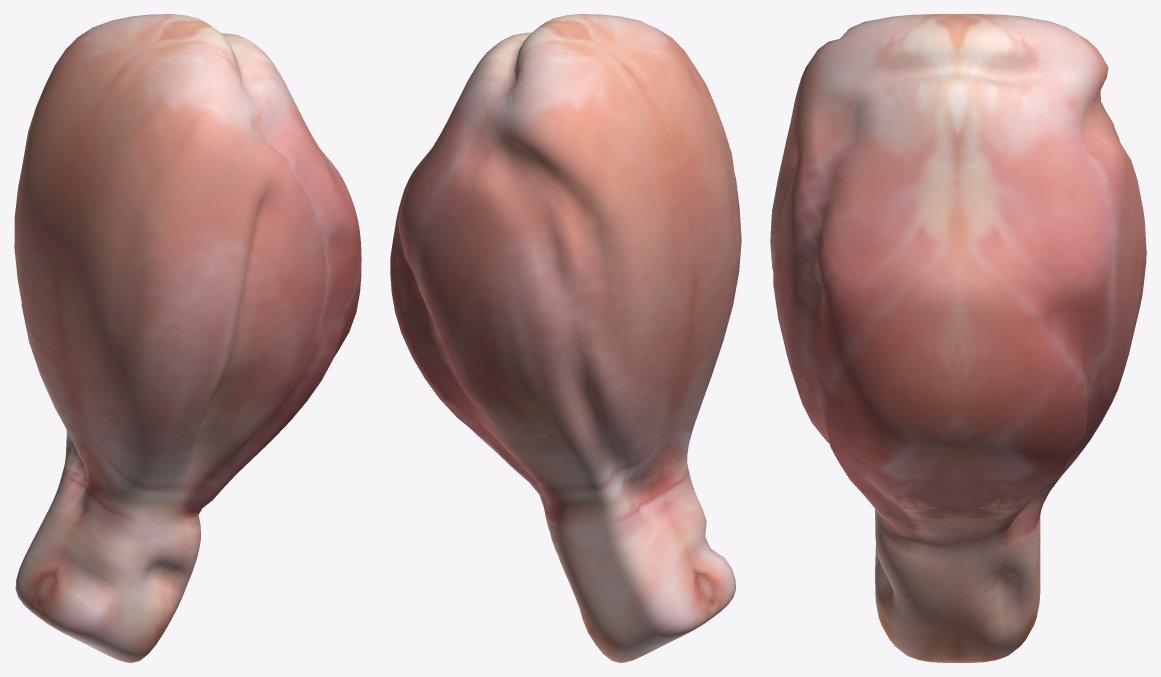
The model's file is Drumstick.glb.
3 views of the same model, side by side, from view 1: azimuth 30°, elevation 25°; view 2: azimuth 150°, elevation 25°; view 3: azimuth 270°, elevation 25° (orthographic). The views are drawn at different scales.
Parts seen in each view (by area): view 1: Object_2; view 2: Object_2; view 3: Object_2.
Part boxes in pixels (x1=…): Object_2: x1=14, y1=14, x2=361, y2=662; Object_2: x1=390, y1=14, x2=741, y2=662; Object_2: x1=770, y1=14, x2=1146, y2=662.
Size of the model in its own units: 2.37 by 4.63 by 2.33.
Materials: 1 (1 with a texture image).
